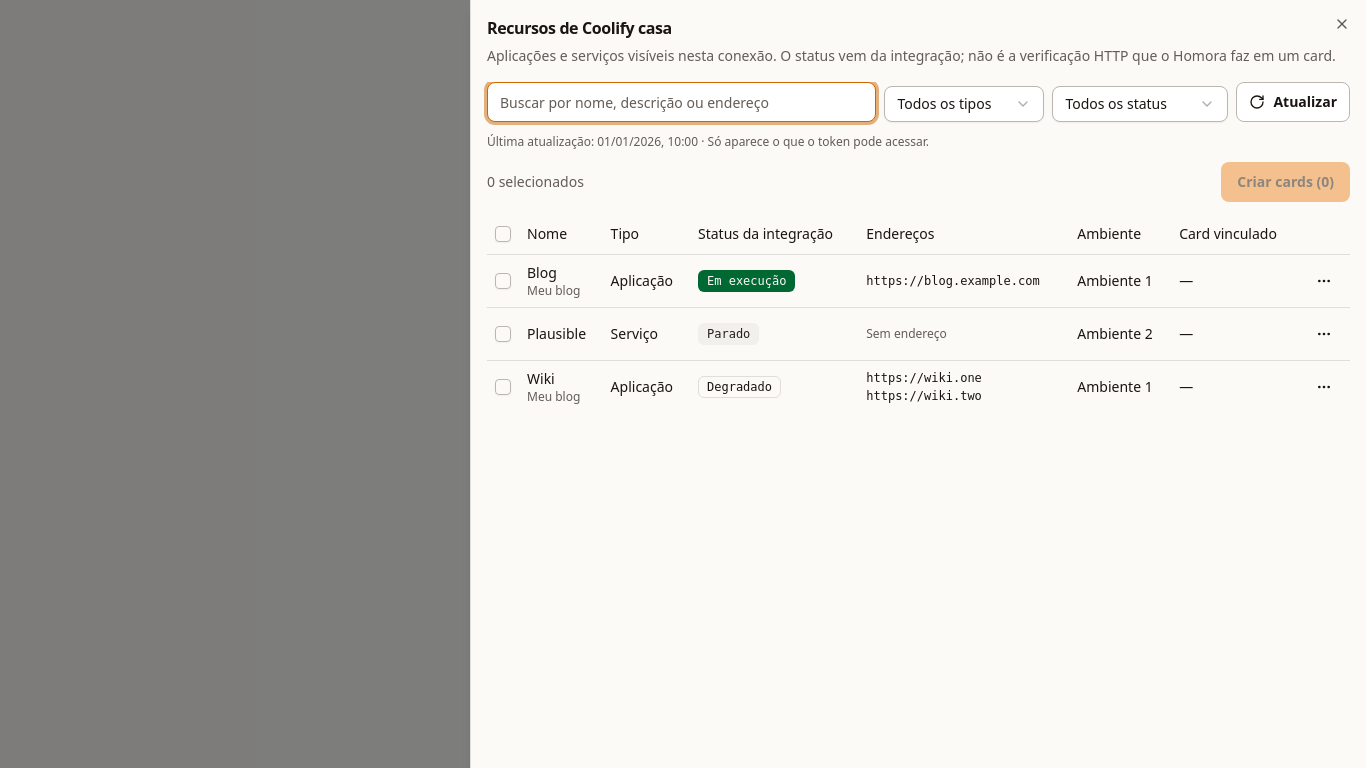
reports a failed row without hiding it and keeps the others
The width and height of the screenshot is (1366, 768).
Expected: the text "Blog" is shown, [527,262,557,282]
Click the checkbox named "Selecionar Blog": click(503, 280) [495,272,511,288]
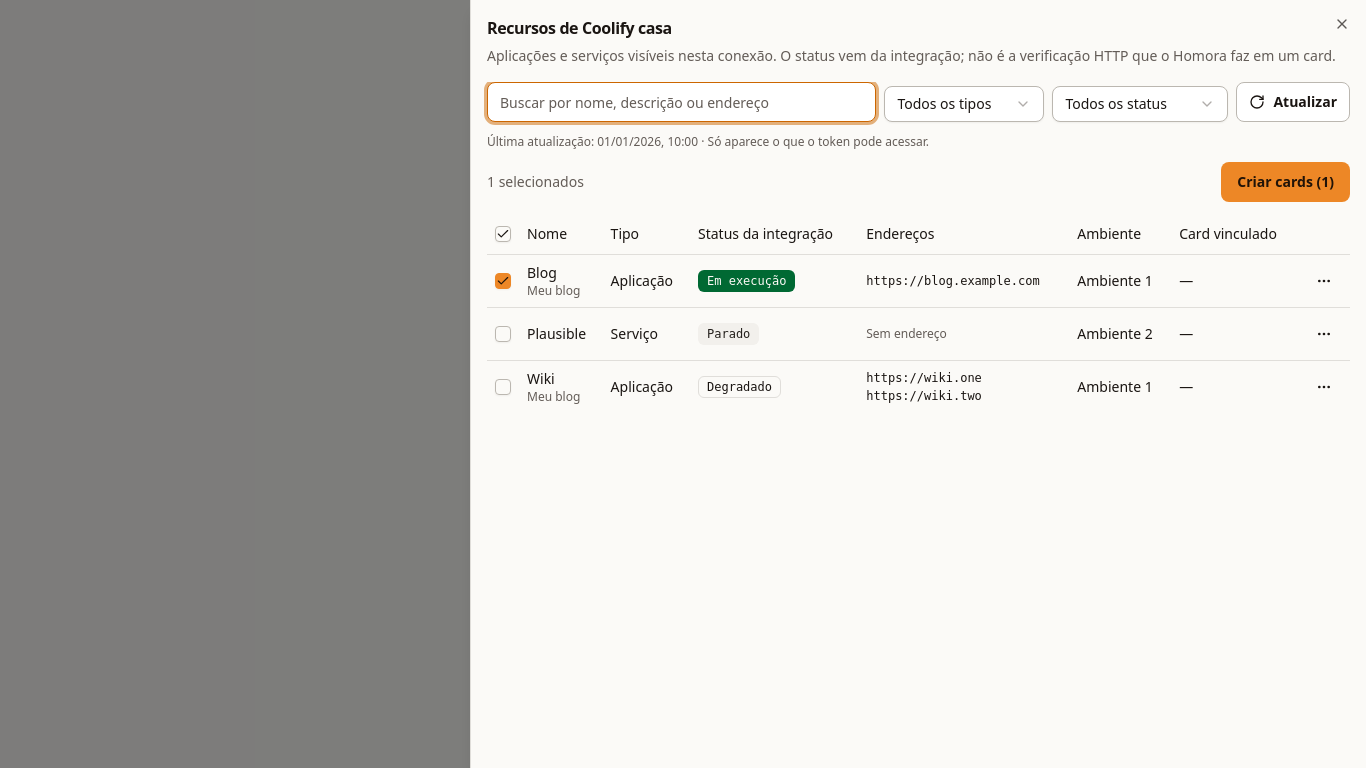
Click the checkbox named "Selecionar Wiki": click(503, 386) [495,378,511,394]
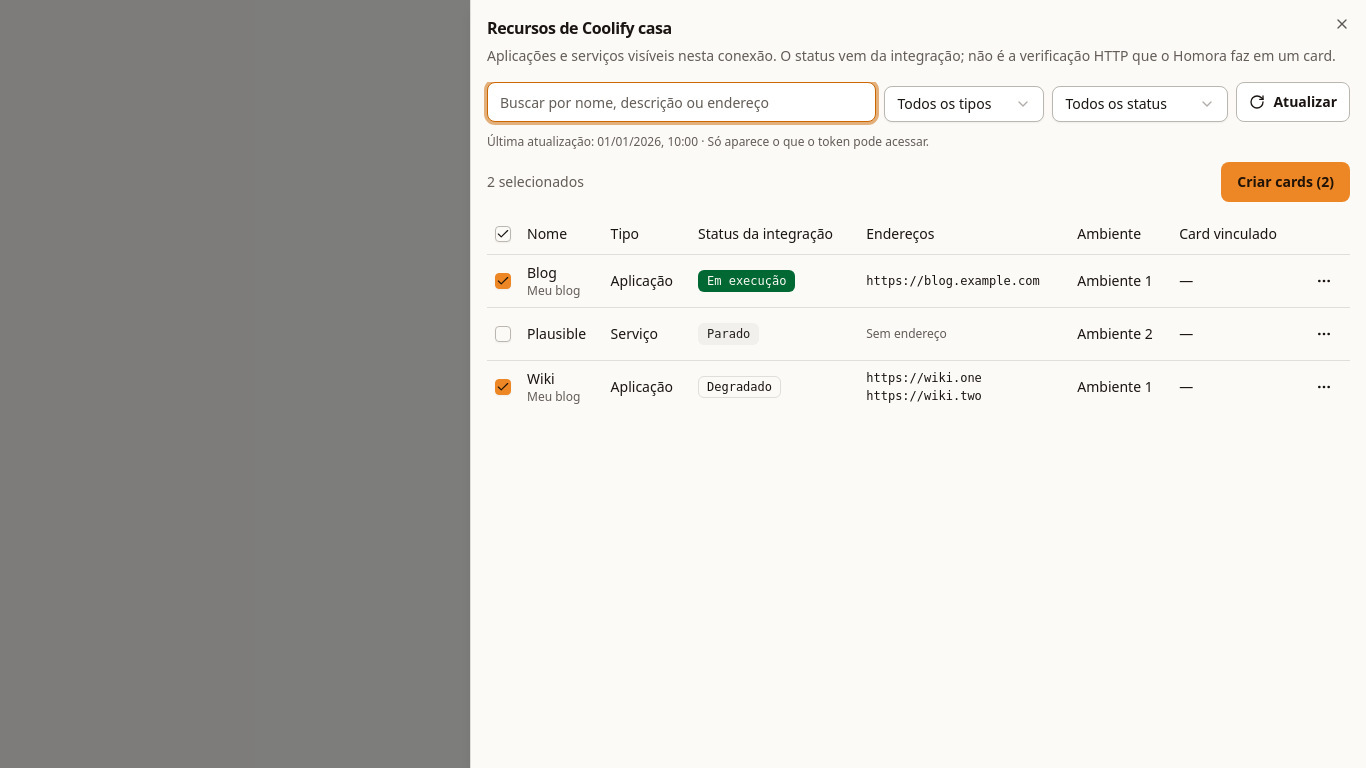
Click the button "Criar cards (2)": click(1286, 182) [1221,162,1350,202]
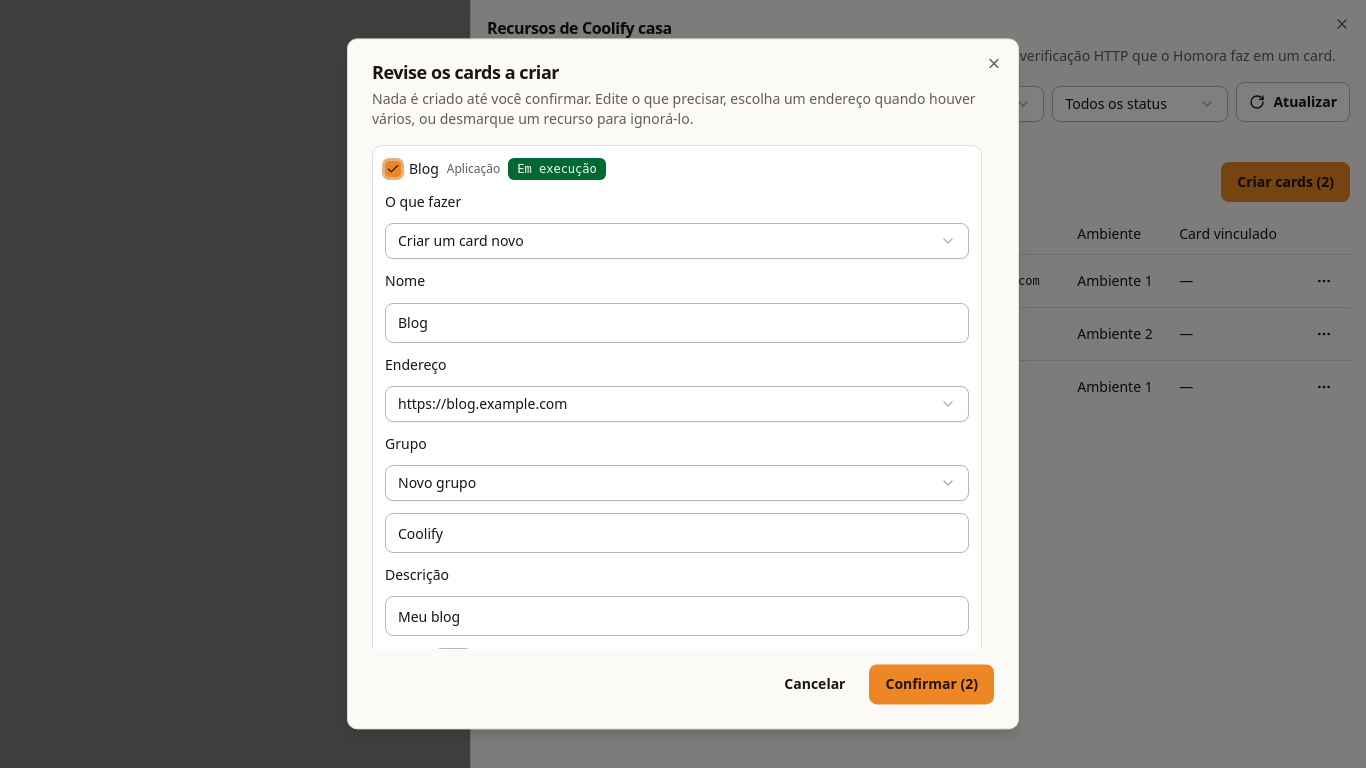
Click the button "Confirmar (2)": click(932, 685) [870,665,994,705]
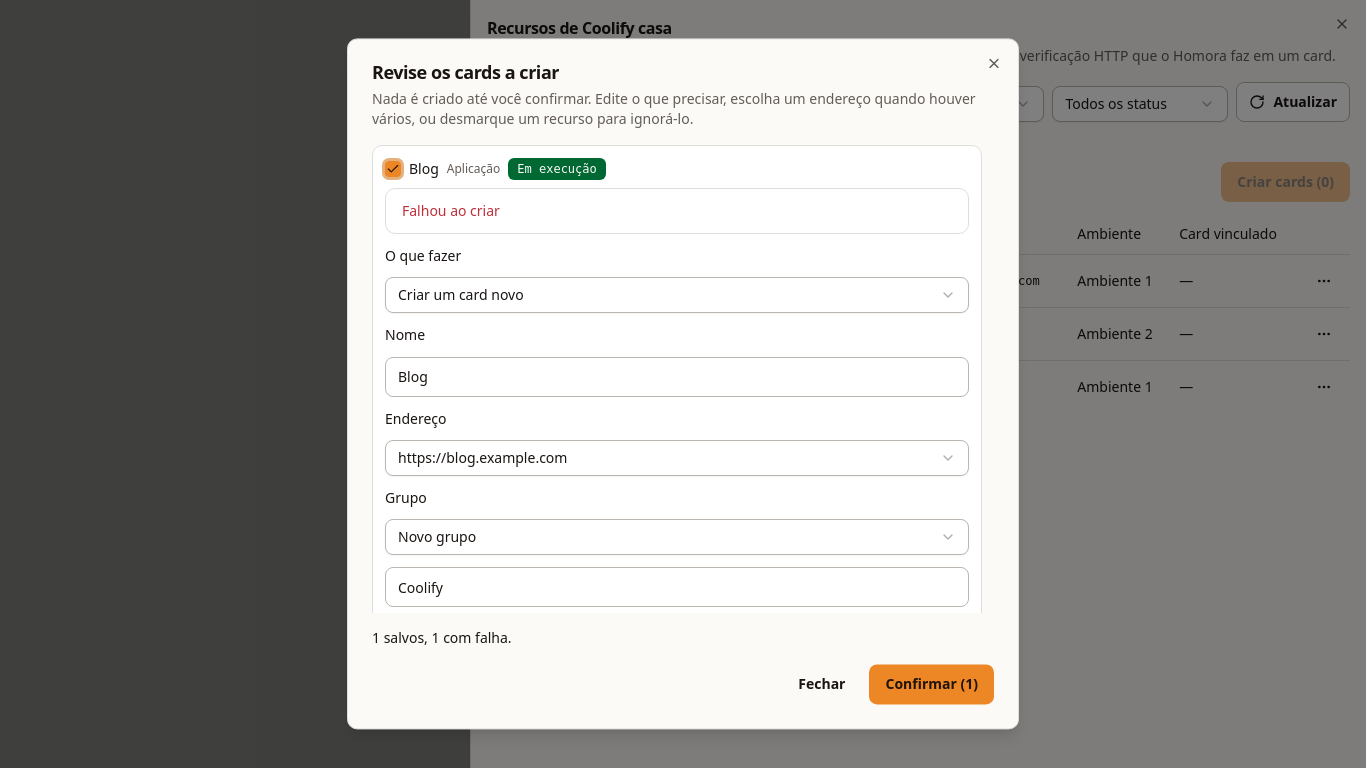
Now the text "Falhou ao criar" is shown, box [402,201,500,220]
Now the text "1 salvos, 1 com falha." is shown, box [372,629,512,648]
